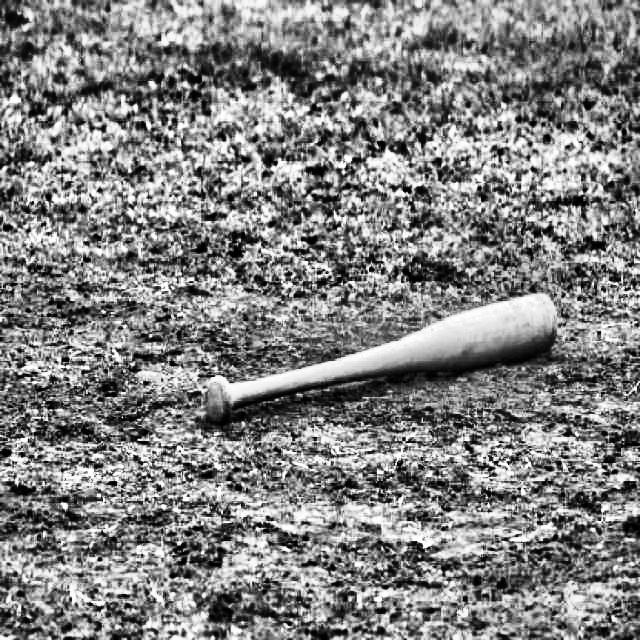tongkat pemukul: (182, 278, 574, 432)
